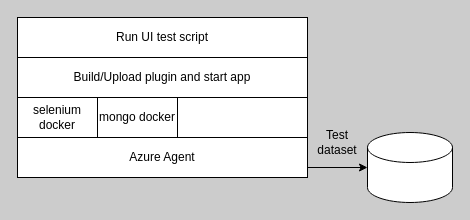
Some shapes in this 470 by 220 pixel diagram are drawn without their labels. The shapes that lost their labels are listed below. From the top down, each one's centre as x and y in pixels, then its label:
At (242,117): "Install fiftyone".
At (409,167): "xaioperations".
